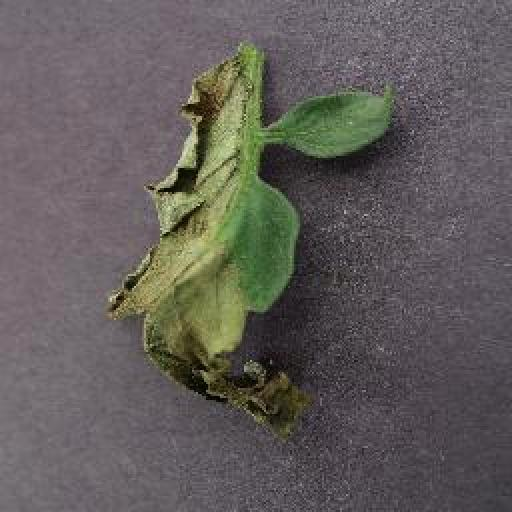disease_tomato: (106, 50, 304, 442)
